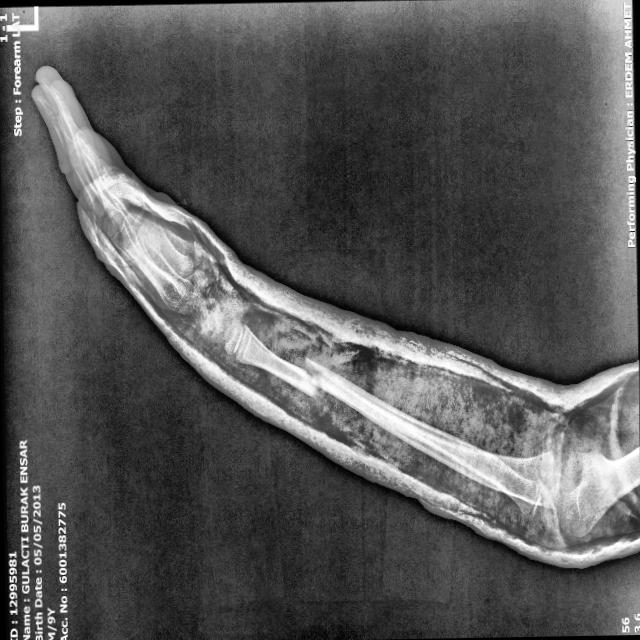Fracture: (286, 345, 337, 402)
